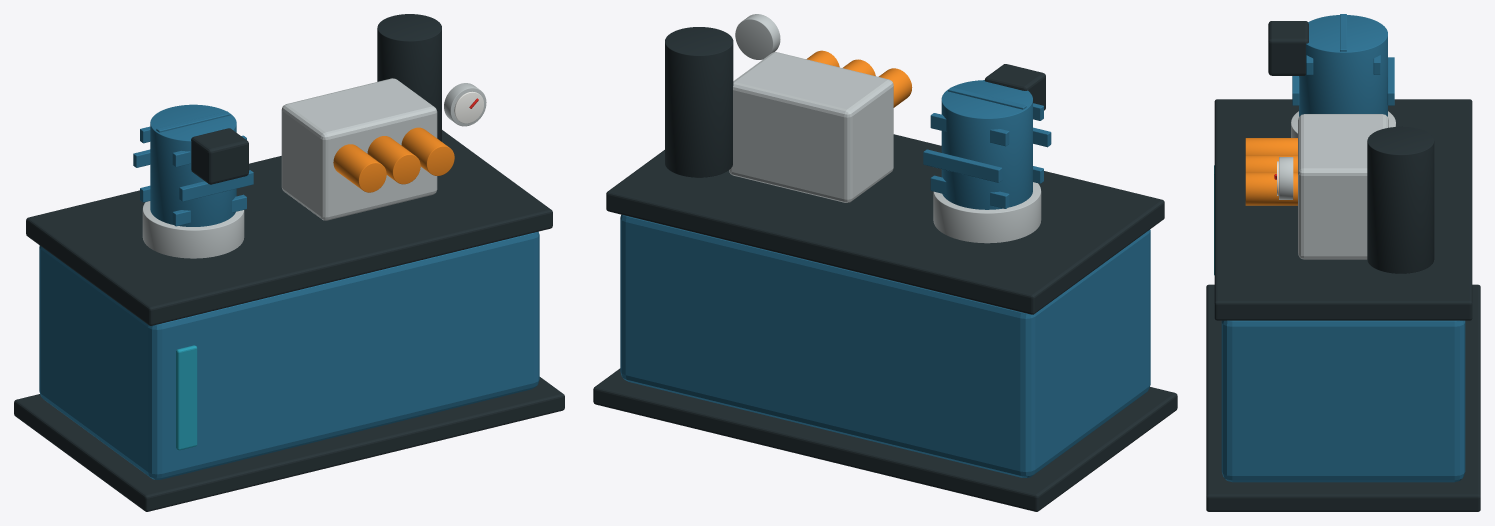
The model's file is hydraulic_power_unit.glb.
3 renders of one model, left to right at view 1: azimuth 30°, elevation 25°; view 2: azimuth 150°, elevation 25°; view 3: azimuth 270°, elevation 25°, orthographic. The views are drawn at different scales.
Parts seen in each view (by area): view 1: RESERVOIR, TOP_PLATE, BASE, VALVE_MANIFOLD, KIN_PUMP_MOTOR, RETURN_FILTER, PUMP_BELLHOUSING, KIN_PUMP_MOTOR_JBOX, LEVEL_GAUGE, SOLENOID_0.18, SOLENOID_0.52, SOLENOID_0.35 (+3 smaller); view 2: RESERVOIR, TOP_PLATE, VALVE_MANIFOLD, BASE, RETURN_FILTER, KIN_PUMP_MOTOR, PUMP_BELLHOUSING, GAUGE_BODY, KIN_PUMP_MOTOR_JBOX, KIN_PUMP_MOTOR_FIN_0, SOLENOID_0.18; view 3: RESERVOIR, TOP_PLATE, BASE, VALVE_MANIFOLD, RETURN_FILTER, KIN_PUMP_MOTOR, KIN_PUMP_MOTOR_JBOX, SOLENOID_0.52, SOLENOID_0.18, SOLENOID_0.35, GAUGE_BODY, KIN_PUMP_MOTOR_FIN_0.
Boxes of the visible parts, x1,y1,x2,y2 form: RESERVOIR: (39,231,539,479); TOP_PLATE: (26,130,552,325); BASE: (14,377,564,511); VALVE_MANIFOLD: (281,78,437,220); KIN_PUMP_MOTOR: (150,104,236,226); RETURN_FILTER: (377,14,441,141); PUMP_BELLHOUSING: (142,201,244,258); KIN_PUMP_MOTOR_JBOX: (191,128,248,184); LEVEL_GAUGE: (176,345,197,450); SOLENOID_0.18: (333,144,386,192); SOLENOID_0.52: (401,127,454,175); SOLENOID_0.35: (367,136,420,184); RESERVOIR: (620,214,1150,477); TOP_PLATE: (606,134,1164,314); VALVE_MANIFOLD: (729,52,893,202); BASE: (593,368,1177,511); RETURN_FILTER: (665,27,733,177); KIN_PUMP_MOTOR: (941,80,1032,209); PUMP_BELLHOUSING: (933,182,1041,243); GAUGE_BODY: (735,14,780,59); KIN_PUMP_MOTOR_JBOX: (984,64,1045,110); KIN_PUMP_MOTOR_FIN_0: (923,149,1002,182); SOLENOID_0.18: (878,68,912,107); RESERVOIR: (1221,320,1465,482); TOP_PLATE: (1214,99,1472,320); BASE: (1206,284,1480,511); VALVE_MANIFOLD: (1298,114,1388,259); RETURN_FILTER: (1367,126,1434,273); KIN_PUMP_MOTOR: (1299,15,1387,116); KIN_PUMP_MOTOR_JBOX: (1268,21,1308,75); SOLENOID_0.52: (1245,172,1297,205); SOLENOID_0.18: (1245,138,1297,154); SOLENOID_0.35: (1245,155,1297,172); GAUGE_BODY: (1279,157,1293,199); KIN_PUMP_MOTOR_FIN_0: (1387,57,1394,105).
Bounding box in the file's own units: 2.1 × 1.57 × 1.15.
